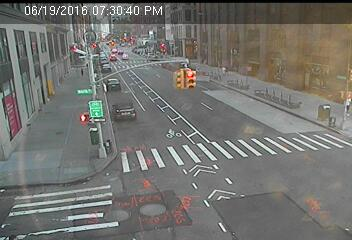neg: (159, 54, 195, 101), (7, 155, 42, 202), (79, 91, 114, 137), (45, 66, 76, 107), (305, 122, 333, 159), (286, 67, 312, 102), (257, 130, 282, 164), (110, 44, 133, 76), (172, 145, 194, 174), (51, 138, 73, 166), (228, 90, 248, 118), (225, 40, 244, 66), (127, 160, 146, 184), (106, 199, 124, 224), (261, 199, 278, 222), (217, 185, 233, 207), (150, 201, 166, 222), (199, 138, 214, 158), (334, 187, 345, 202)
